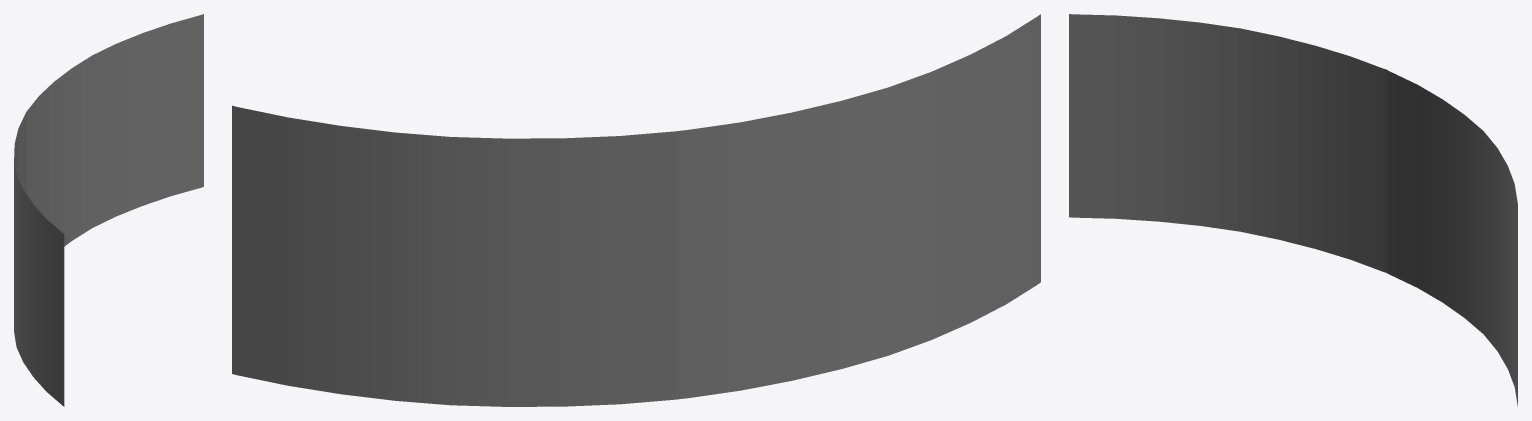
File: q-scifi-mod-shortwall-whiteplate2-corner-outer.glb
3 renders of one model, left to right at view 1: azimuth 30°, elevation 25°; view 2: azimuth 150°, elevation 25°; view 3: azimuth 270°, elevation 25°, orthographic. The views are drawn at different scales.
Parts seen in each view (by area): view 1: ShortWall_WhitePlate2_Corner_Outer; view 2: ShortWall_WhitePlate2_Corner_Outer; view 3: ShortWall_WhitePlate2_Corner_Outer.
Part boxes in pixels (<box>): ShortWall_WhitePlate2_Corner_Outer: <box>14,14,203,406</box>; ShortWall_WhitePlate2_Corner_Outer: <box>232,14,1040,406</box>; ShortWall_WhitePlate2_Corner_Outer: <box>1069,14,1517,406</box>.
Size of the model in its own units: 4 by 2 by 4.
Materials: 1 (1 with a texture image).
